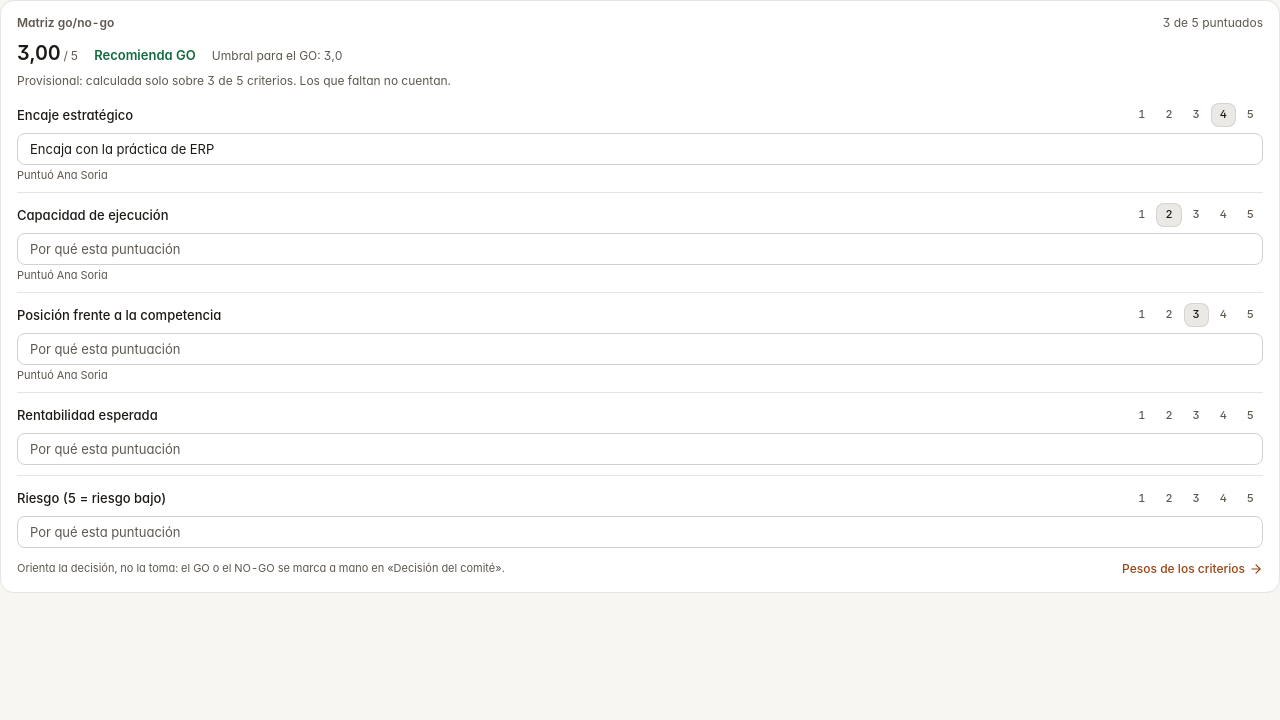
Test: MatrizGoNoGo › puntuar un criterio con su motivo manda el PUT y pasa a la matriz recalculada
Expected: the element named "Puntuación total" is shown, [17,41,78,65]
Expected: the button "Guardar" is not shown
Click the button "5" in the row of "Rentabilidad esperada".
click(1250, 415)  # box [1238,403,1263,427]
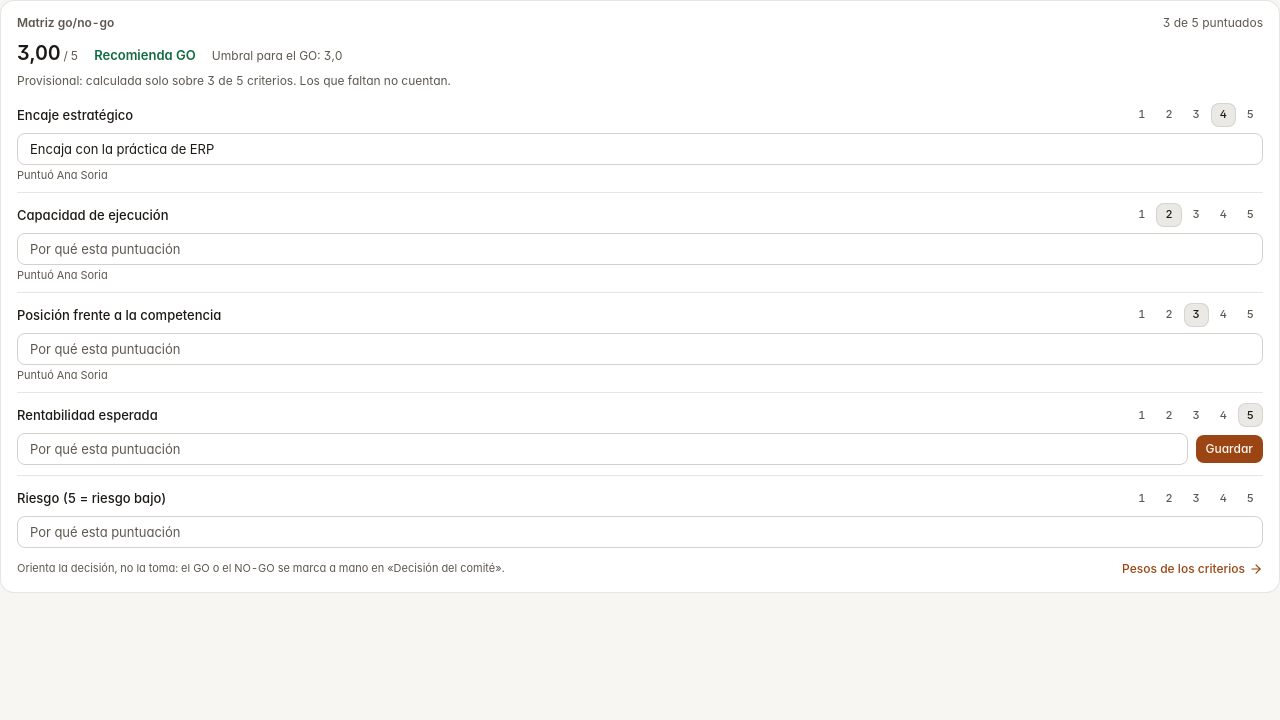
Type "Margen alto" into the field named "Motivo de «Rentabilidad esperada»".
click(602, 449); type("Margen alto")  # box [17,433,1188,465]
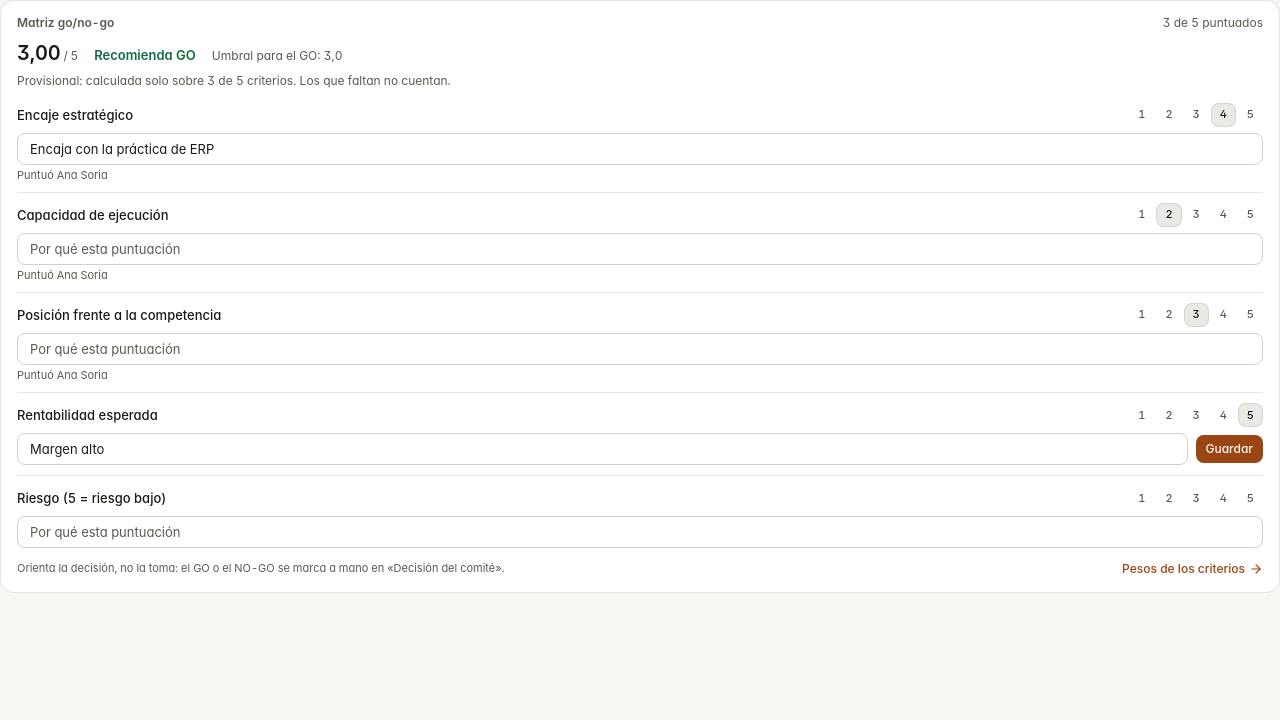
Click the button with aria-label "Guardar «Rentabilidad esperada»".
click(1229, 449)  # box [1196,435,1263,463]
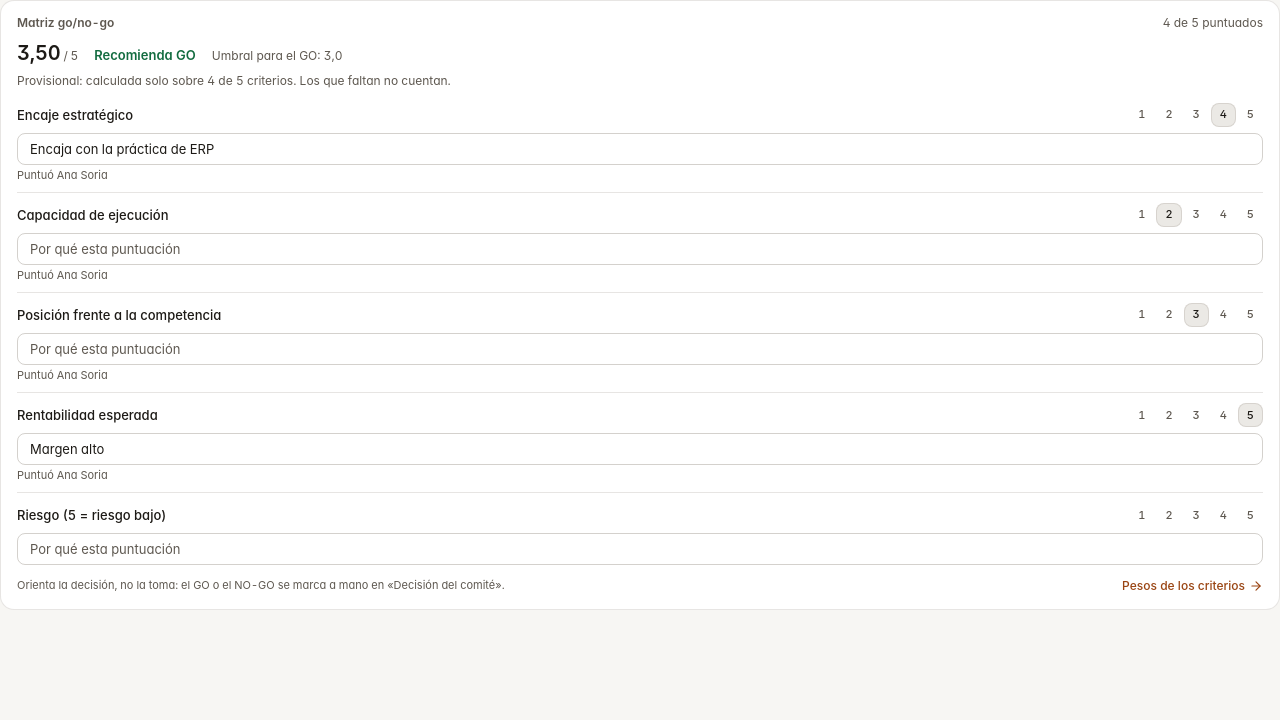
Now the element named "Puntuación total" shows "3,50", box [17,41,60,65]
Now the text "4 de 5 puntuados" is shown, box [1163,15,1263,31]
Now the button "Guardar" is gone
